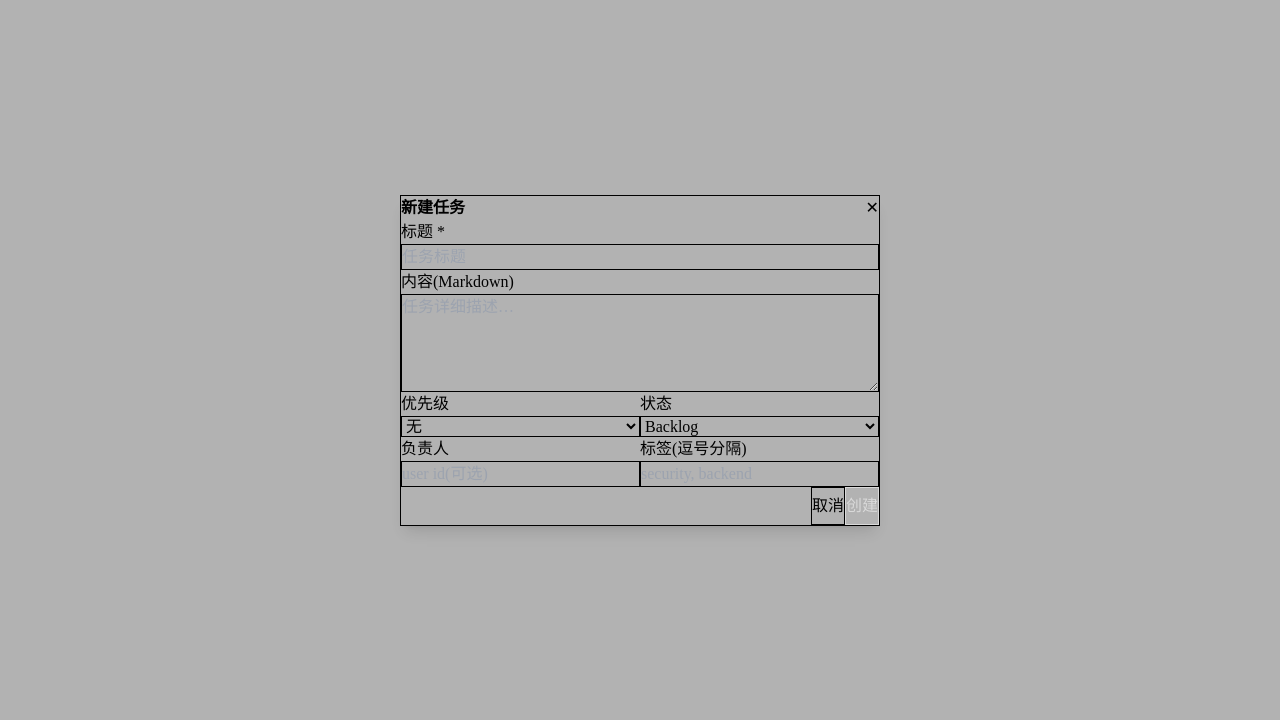
Test: NewTaskModal · 表单校验 › 填 title → 提交按钮 enabled
This screenshot has width=1280, height=720.
In the field with test id "board-new-task-title": (640, 256) [401,244,879,270], type "新建任务标题"
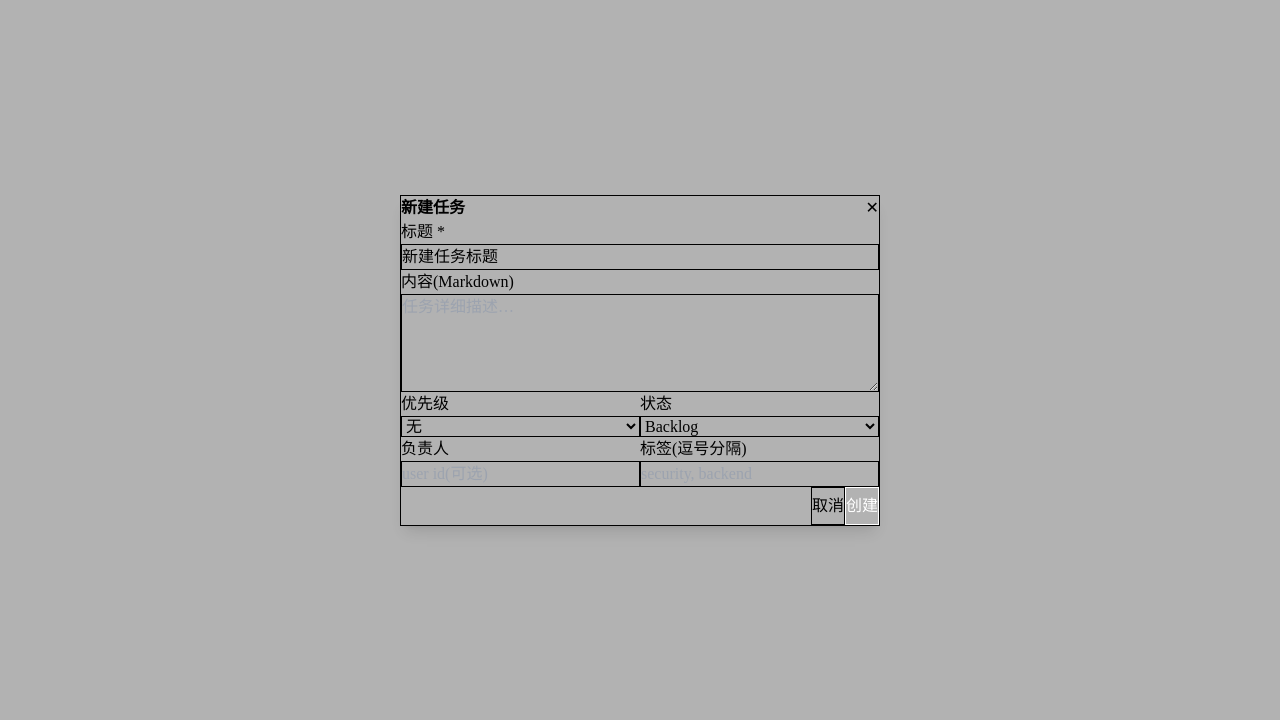
Expected: the button with test id "board-new-task-submit" is enabled, [845,486,879,524]
